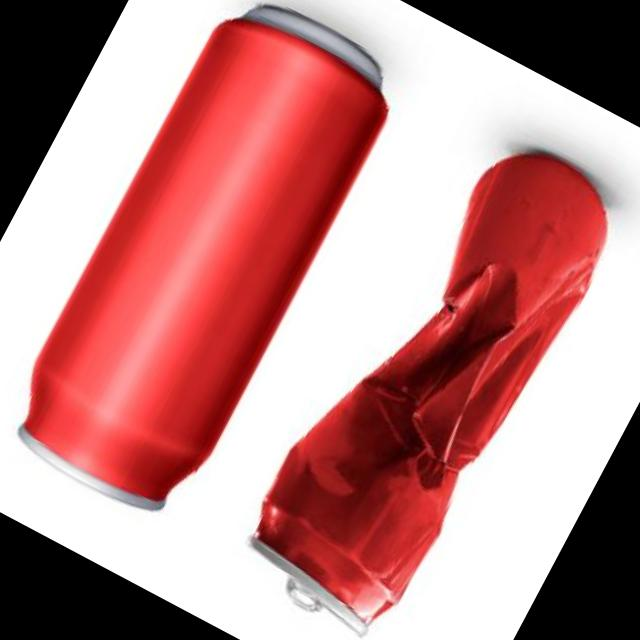Kaleng: (0, 0, 413, 532), (222, 110, 635, 640)
